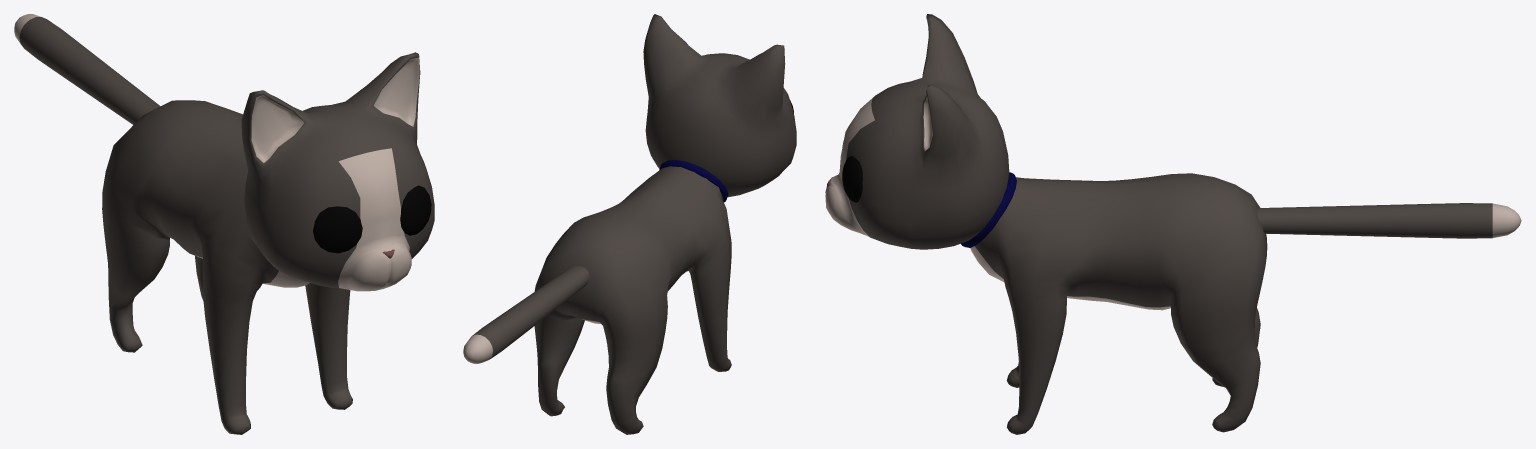
The model's file is cat.fbx.
3 views of the same model, side by side, from view 1: azimuth 30°, elevation 25°; view 2: azimuth 150°, elevation 25°; view 3: azimuth 270°, elevation 25° (orthographic). The views are drawn at different scales.
Parts seen in each view (by area): view 1: bodymesh, Reye, Leye; view 2: bodymesh, collar; view 3: bodymesh, Leye, collar.
Part boxes in pixels (bbox=[...]): bodymesh: bbox=[14, 14, 434, 434]; Reye: bbox=[313, 206, 362, 253]; Leye: bbox=[400, 185, 431, 235]; bodymesh: bbox=[463, 14, 796, 434]; collar: bbox=[659, 160, 728, 202]; bodymesh: bbox=[825, 14, 1521, 434]; Leye: bbox=[842, 156, 862, 202]; collar: bbox=[961, 172, 1016, 247].
Bounding box in the file's own units: 3.89 × 8.34 × 14.69.
